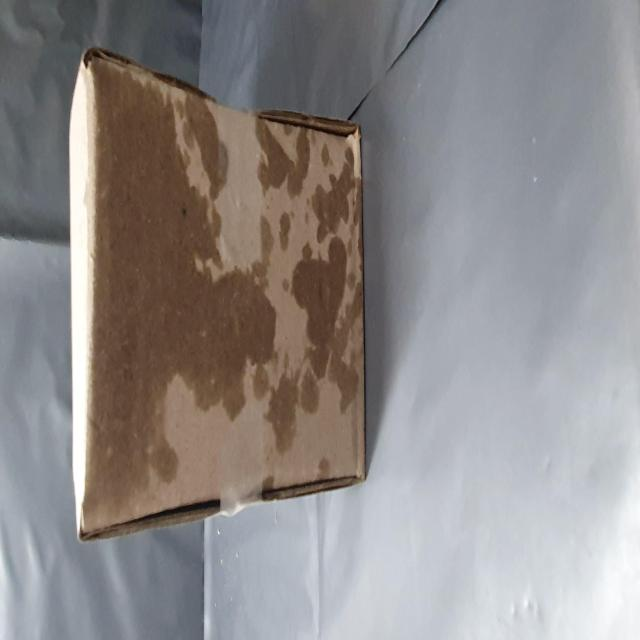wet: (63, 131, 316, 432), (99, 433, 300, 640)
